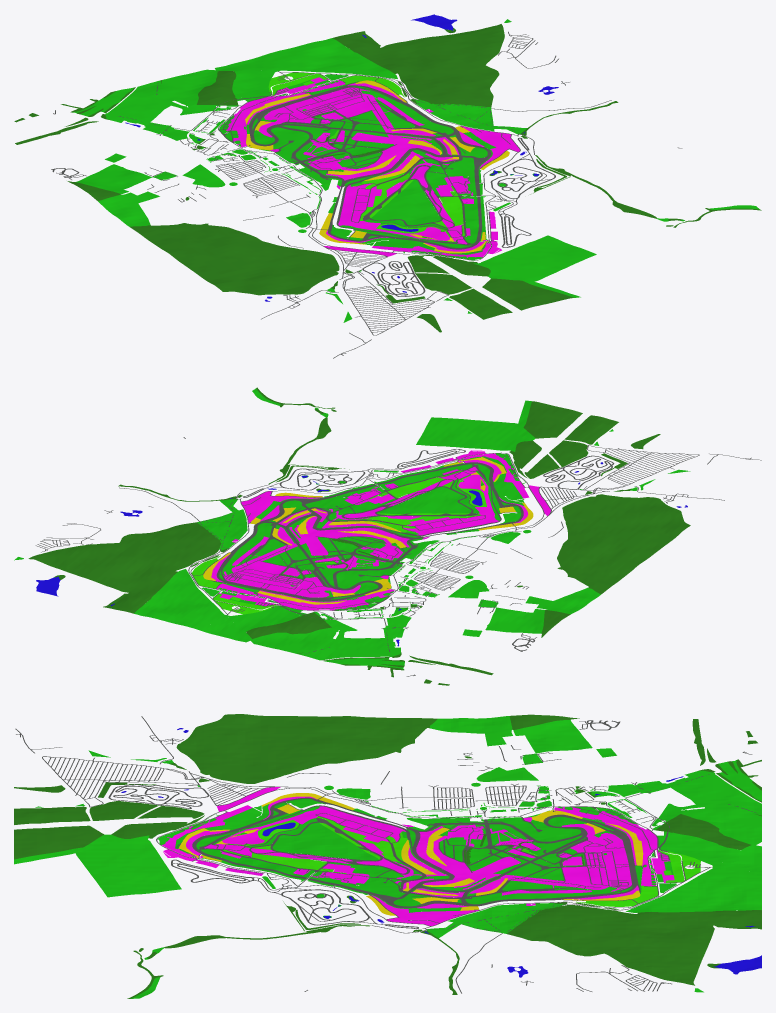
File: Silverstone Map.fbx
3 renders of one model, top to bottom at view 1: azimuth 30°, elevation 25°; view 2: azimuth 150°, elevation 25°; view 3: azimuth 270°, elevation 25°, orthographic. The views are drawn at different scales.
Visible parts, largest first — view 1: Grass, Forest, Asfalt, Service roads, Racetrack road, Grass.005, Zand, Water; view 2: Grass, Forest, Asfalt, Service roads, Racetrack road, Grass.005, Zand, Water; view 3: Grass, Forest, Asfalt, Service roads, Racetrack road, Grass.005, Zand, Water.
Part boxes in pixels (bbox=[...]): Grass: bbox=[72, 19, 759, 322]; Forest: bbox=[14, 24, 761, 332]; Asfalt: bbox=[226, 77, 519, 257]; Service roads: bbox=[53, 31, 682, 358]; Racetrack road: bbox=[51, 85, 555, 296]; Grass.005: bbox=[268, 72, 464, 237]; Zand: bbox=[245, 80, 509, 253]; Water: bbox=[125, 14, 558, 301]; Grass: bbox=[14, 388, 690, 669]; Forest: bbox=[28, 387, 690, 685]; Asfalt: bbox=[211, 450, 550, 610]; Service roads: bbox=[35, 437, 761, 676]; Racetrack road: bbox=[216, 449, 614, 651]; Grass.005: bbox=[191, 471, 486, 614]; Zand: bbox=[203, 457, 533, 604]; Water: bbox=[36, 462, 687, 646]; Grass: bbox=[14, 716, 761, 998]; Forest: bbox=[14, 714, 761, 998]; Asfalt: bbox=[162, 787, 674, 925]; Service roads: bbox=[15, 716, 755, 993]; Racetrack road: bbox=[108, 720, 638, 929]; Grass.005: bbox=[223, 816, 700, 906]; Zand: bbox=[178, 793, 643, 915]; Water: bbox=[121, 728, 761, 977].
Bounding box in the file's own units: 2527 × 47 × 2906.
